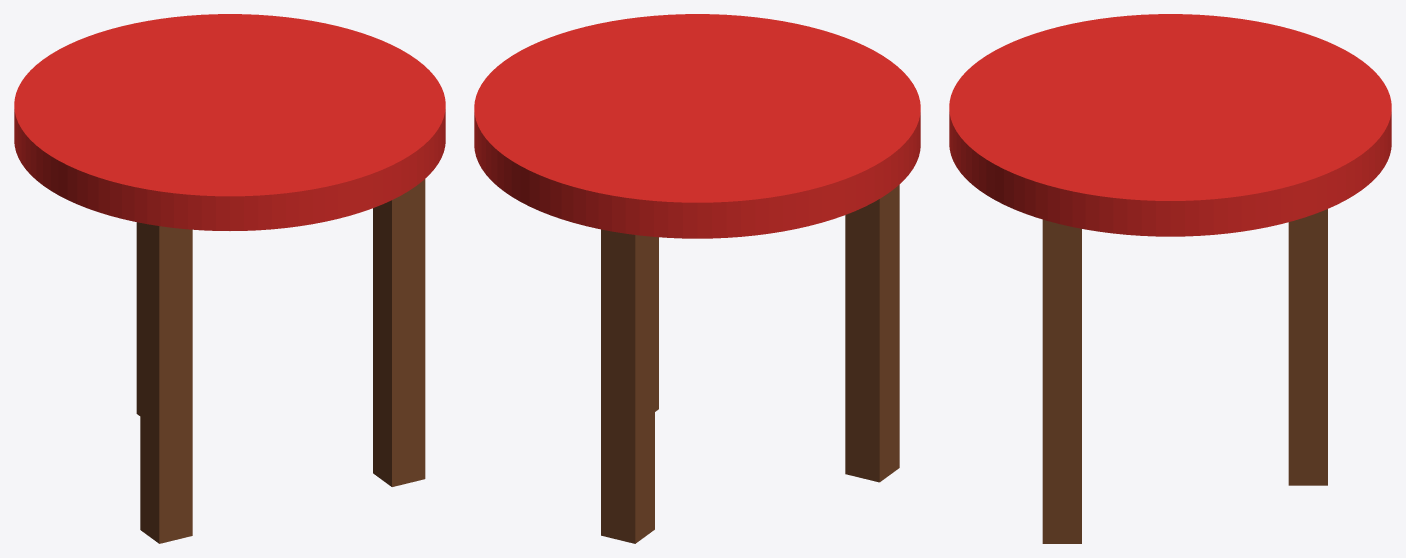
The model's file is stool.glb.
3 views of the same model, side by side, from view 1: azimuth 30°, elevation 25°; view 2: azimuth 150°, elevation 25°; view 3: azimuth 270°, elevation 25° (orthographic). The views are drawn at different scales.
Visible parts, largest first — view 1: CodexTop, CodexLegA, CodexLegB, CodexLegC; view 2: CodexTop, CodexLegC, CodexLegA, CodexLegB; view 3: CodexTop, CodexLegB, CodexLegC.
Boxes of the visible parts, x1,y1,x2,y2 form: CodexTop: (14, 14, 445, 230); CodexLegA: (140, 223, 192, 543); CodexLegB: (373, 179, 425, 486); CodexLegC: (136, 222, 140, 415); CodexTop: (474, 14, 920, 238); CodexLegC: (601, 229, 654, 543); CodexLegA: (845, 184, 899, 482); CodexLegB: (655, 237, 658, 411); CodexTop: (949, 14, 1391, 236); CodexLegB: (1042, 219, 1081, 543); CodexLegC: (1288, 209, 1327, 485).
Size of the model in its own units: 0.9 by 0.83 by 0.9.
